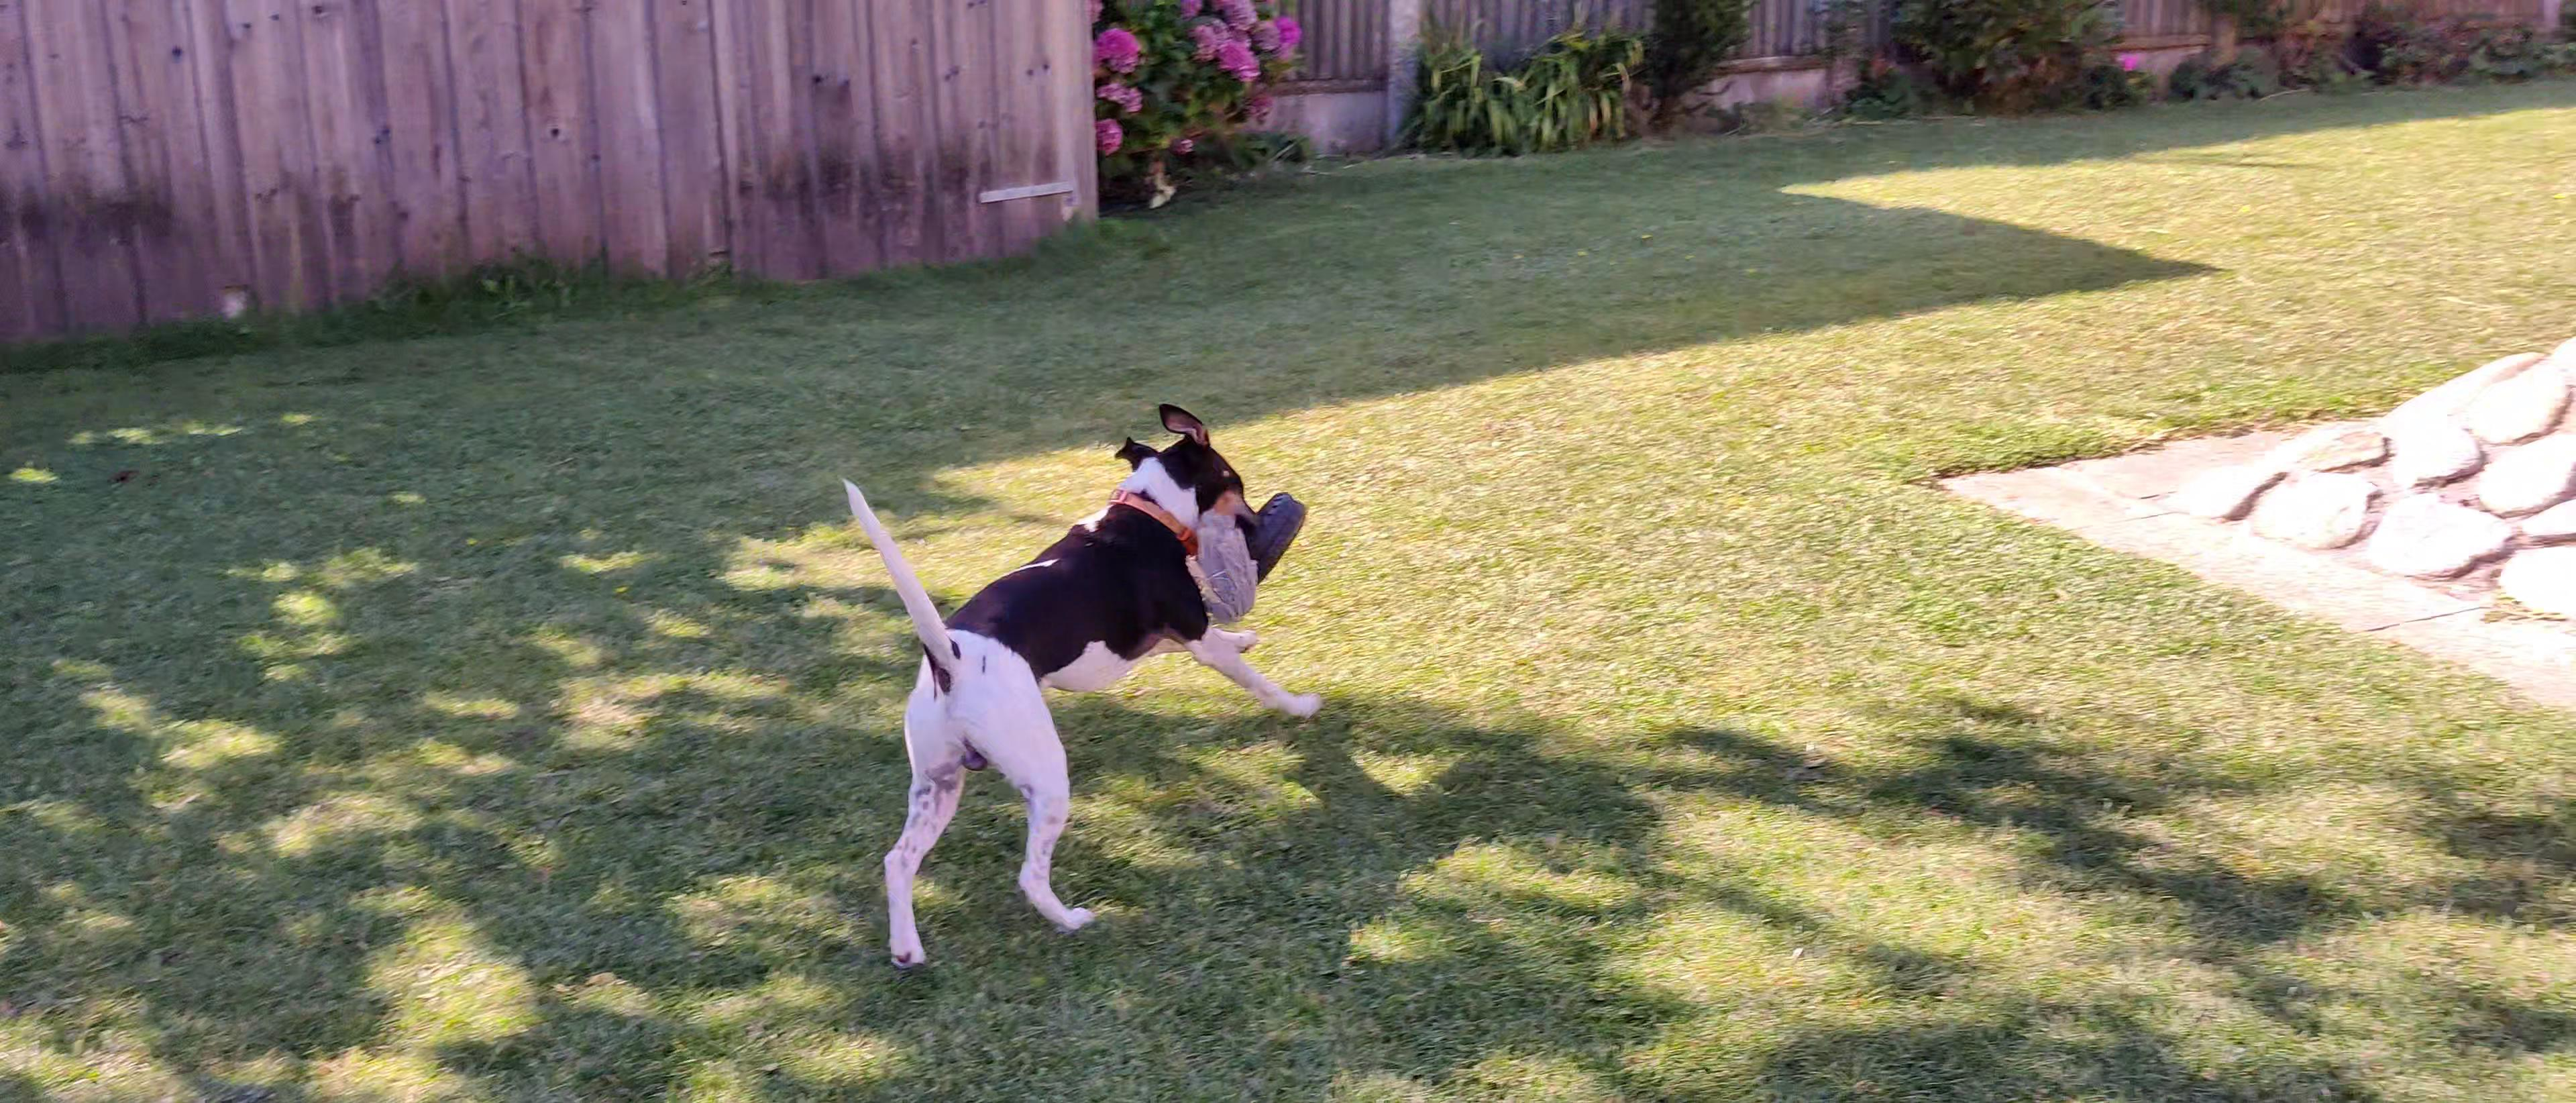Dog: (820, 390, 1331, 975)
